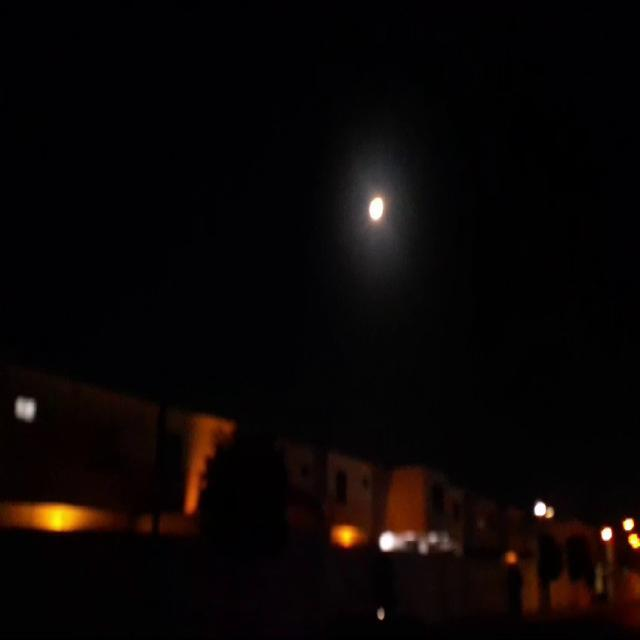moon: (363, 192, 386, 226)
